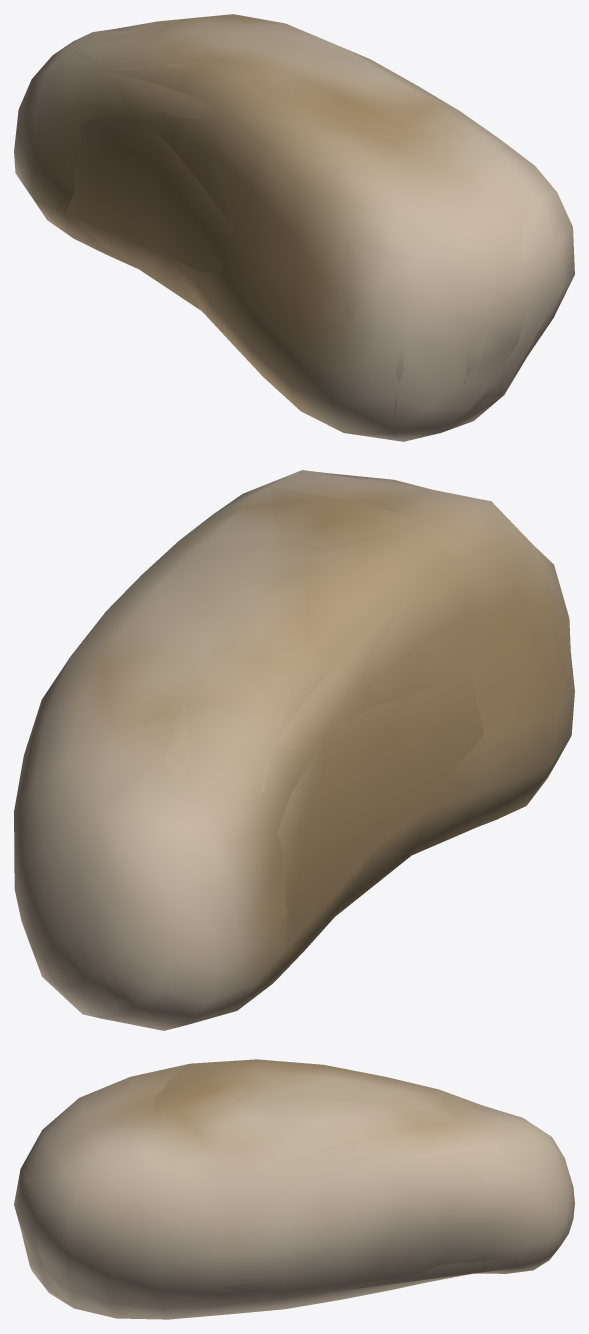
File: L carpale quartum.fbx
The picture shows the model from 3 angles, top to bottom: view 1: azimuth 30°, elevation 25°; view 2: azimuth 150°, elevation 25°; view 3: azimuth 270°, elevation 25°; orthographic projection. The views are drawn at different scales.
Parts seen in each view (by area): view 1: L carpale quartum, L carpale quartum low; view 2: L carpale quartum, L carpale quartum low; view 3: L carpale quartum, L carpale quartum low.
Part boxes in pixels (box(x1,y1,x2,y2)): L carpale quartum: box(14, 14, 574, 441); L carpale quartum low: box(66, 24, 573, 432); L carpale quartum: box(14, 470, 574, 1030); L carpale quartum low: box(14, 487, 570, 1023); L carpale quartum: box(14, 1059, 574, 1319); L carpale quartum low: box(16, 1063, 544, 1313).
Size of the model in its own units: 2.62 by 2.3 by 5.59.
